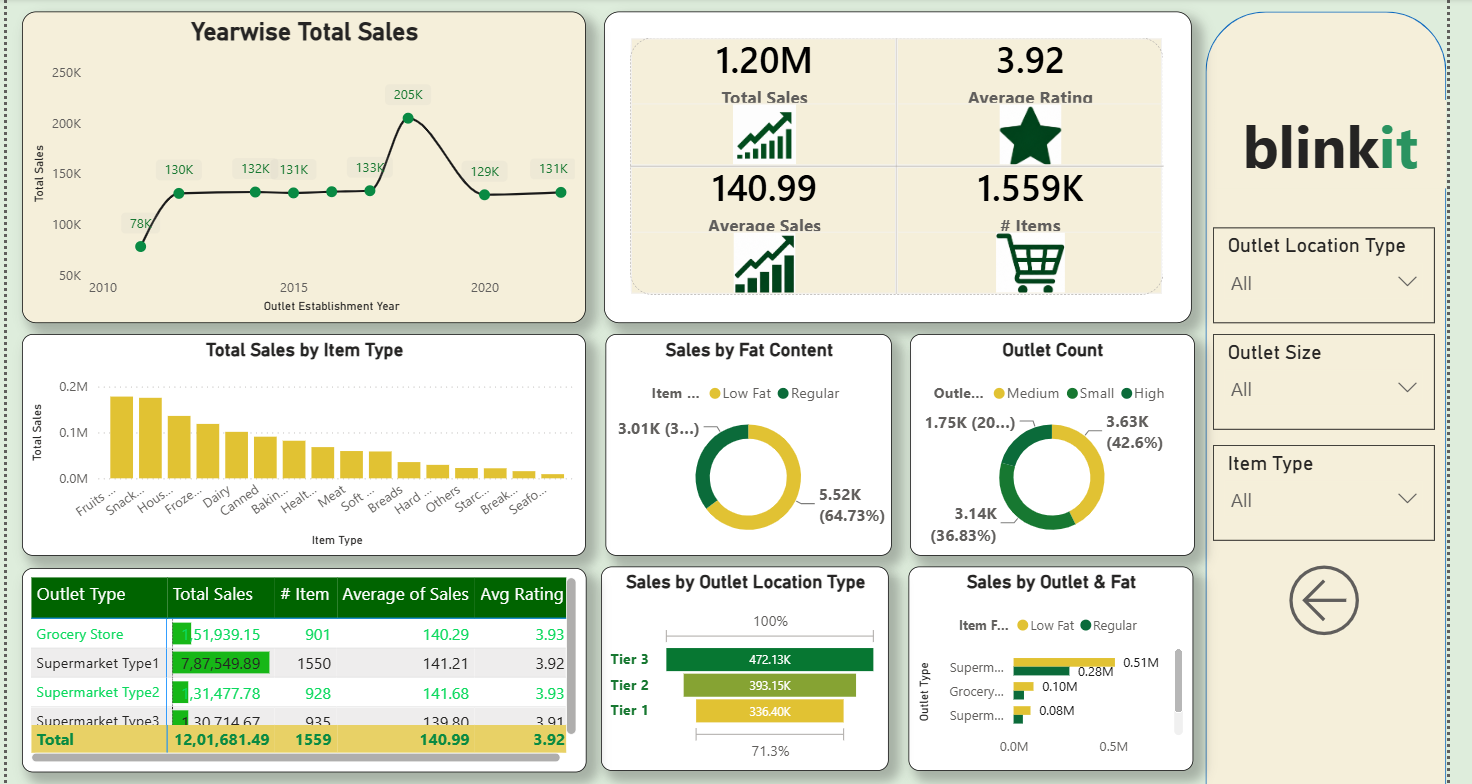

What the dashboard file says about the page in this screenshot:
{"tool":"powerbi","page":{"name":"Page 1","canvas":[1325,724],"ordinal":0},"visuals":[{"type":"shape","box":[1102.5,12.5,221.6,711.9],"z":0},{"type":"textbox","box":[1111.3,94,213.2,81.5],"z":1000},{"type":"cardVisual","fields":{"Data":["Sum(BlinkIT-Grocery-Data.Sales)","Avg(BlinkIT-Grocery-Data.Sales)","Avg(BlinkIT-Grocery-Data.Rating)","Count(BlinkIT-Grocery-Data.Item Identifier)"]},"box":[548.6,12.5,540.8,286.8],"z":2000},{"type":"lineChart","title":"Yearwise Total Sales","fields":{"Category":["BlinkIT-Grocery-Data.Outlet Establishment Year"],"Y":["BlinkIT-Grocery-Data.Total Sales"]},"box":[14.1,12.5,518.8,286.8],"z":3000},{"type":"donutChart","title":"Outlet Count","fields":{"Category":["BlinkIT-Grocery-Data.Outlet Size"],"Y":["CountNonNull(BlinkIT-Grocery-Data.Outlet Identifier)"]},"box":[830.7,308.8,261.8,203.8],"z":4000},{"type":"donutChart","title":"Sales by Fat Content","fields":{"Category":["BlinkIT-Grocery-Data.Item Fat Content"],"Y":["CountNonNull(BlinkIT-Grocery-Data.Item Identifier)"]},"box":[550.2,308.8,263.3,203.8],"z":5000},{"type":"clusteredBarChart","title":"Sales by Outlet & Fat","fields":{"Series":["BlinkIT-Grocery-Data.Item Fat Content"],"Category":["BlinkIT-Grocery-Data.Outlet Type"],"Y":["BlinkIT-Grocery-Data.Total Sales"]},"box":[829.2,523.5,261.8,188.1],"z":6000},{"type":"clusteredColumnChart","fields":{"Category":["BlinkIT-Grocery-Data.Item Type"],"Y":["BlinkIT-Grocery-Data.Total Sales"]},"box":[14.1,308.8,518.8,203.8],"z":7000},{"type":"funnel","title":" Sales by Outlet Location Type","fields":{"Y":["BlinkIT-Grocery-Data.Total Sales"],"Category":["BlinkIT-Grocery-Data.Outlet Location Type"]},"box":[547,523.5,264.9,188.1],"z":8000},{"type":"pivotTable","fields":{"Rows":["BlinkIT-Grocery-Data.Outlet Type"],"Values":["BlinkIT-Grocery-Data.Total Sales","Count(BlinkIT-Grocery-Data.Item Identifier)","Avg(BlinkIT-Grocery-Data.Sales)","Avg(BlinkIT-Grocery-Data.Rating)"]},"box":[14,524,519,188],"z":9000},{"type":"slicer","fields":{"Values":["BlinkIT-Grocery-Data.Outlet Location Type"]},"box":[1109.7,211.6,203.8,87.8],"z":10000},{"type":"slicer","fields":{"Values":["BlinkIT-Grocery-Data.Item Type"]},"box":[1109.5,411.2,203.8,87.8],"z":11000},{"type":"slicer","fields":{"Values":["BlinkIT-Grocery-Data.Outlet Size"]},"box":[1109.7,308.8,203.8,87.8],"z":12000},{"type":"actionButton","title":"RESET","box":[1171.7,512.5,80.3,84.5],"z":13000}]}

Visuals, with their boxes in screenshot pixels (x1, y1, x2, y2), scaled from the page's 1325x724 canvas onto the 1472x784 screenshot:
shape: locate(1225, 14, 1471, 783)
textbox: locate(1235, 102, 1471, 190)
cardVisual - Sum(BlinkIT-Grocery-Data.Sales) x Avg(BlinkIT-Grocery-Data.Sales): locate(609, 14, 1210, 324)
"Yearwise Total Sales" lineChart: locate(16, 14, 592, 324)
"Outlet Count" donutChart: locate(923, 334, 1214, 555)
"Sales by Fat Content" donutChart: locate(611, 334, 904, 555)
"Sales by Outlet & Fat" clusteredBarChart: locate(921, 567, 1212, 771)
clusteredColumnChart - BlinkIT-Grocery-Data.Item Type x BlinkIT-Grocery-Data.Total Sales: locate(16, 334, 592, 555)
" Sales by Outlet Location Type" funnel: locate(608, 567, 902, 771)
pivotTable - BlinkIT-Grocery-Data.Outlet Type x BlinkIT-Grocery-Data.Total Sales: locate(16, 567, 592, 771)
slicer - BlinkIT-Grocery-Data.Outlet Location Type: locate(1233, 229, 1459, 324)
slicer - BlinkIT-Grocery-Data.Item Type: locate(1233, 445, 1459, 540)
slicer - BlinkIT-Grocery-Data.Outlet Size: locate(1233, 334, 1459, 429)
"RESET" actionButton: locate(1302, 555, 1391, 646)
